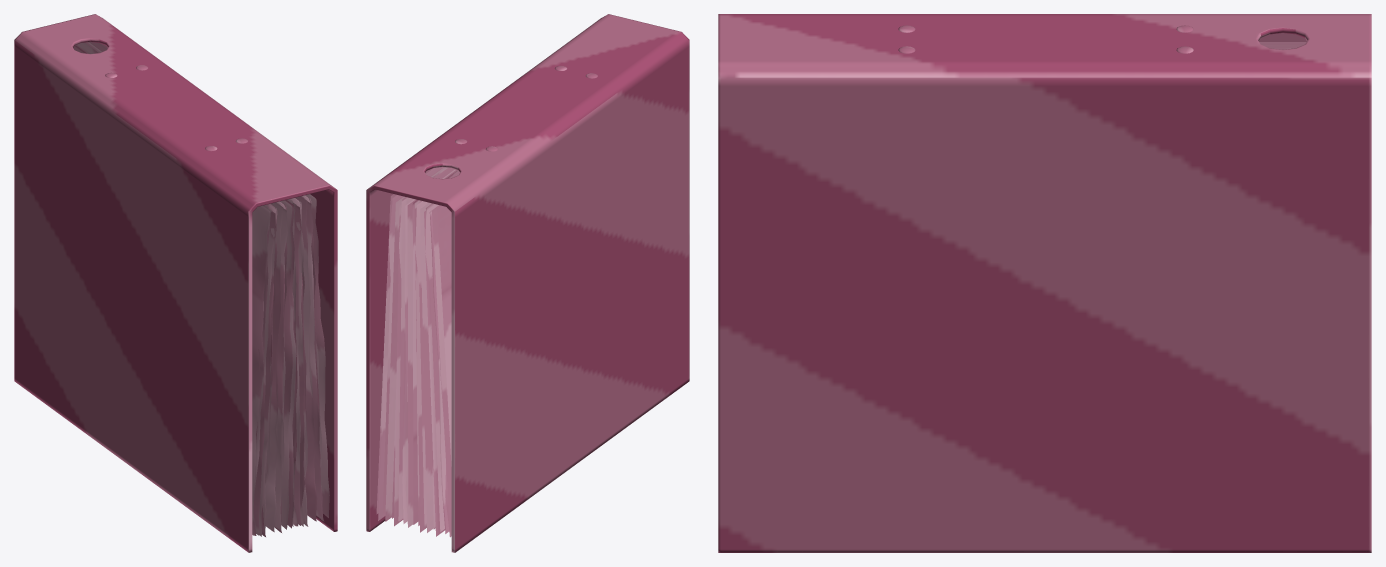
The model's file is pink_wavy_book.obj.
The picture shows the model from 3 angles, left to right: view 1: azimuth 30°, elevation 25°; view 2: azimuth 150°, elevation 25°; view 3: azimuth 270°, elevation 25°; orthographic projection. The views are drawn at different scales.
Visible parts, largest first — view 1: pink_wavy_book_Chocofur_Office_06.000, pink_wavy_book_Chocofur_Office_06.002; view 2: pink_wavy_book_Chocofur_Office_06.000, pink_wavy_book_Chocofur_Office_06.002; view 3: pink_wavy_book_Chocofur_Office_06.000.
Boxes of the visible parts, x1,y1,x2,y2 form: pink_wavy_book_Chocofur_Office_06.000: (14,14,337,552); pink_wavy_book_Chocofur_Office_06.002: (73,42,329,536); pink_wavy_book_Chocofur_Office_06.000: (366,14,689,552); pink_wavy_book_Chocofur_Office_06.002: (376,167,459,537); pink_wavy_book_Chocofur_Office_06.000: (718,14,1371,552).
Bounding box in the file's own units: 0.0755 × 0.2833 × 0.3455.
3 materials, 3 textured.
